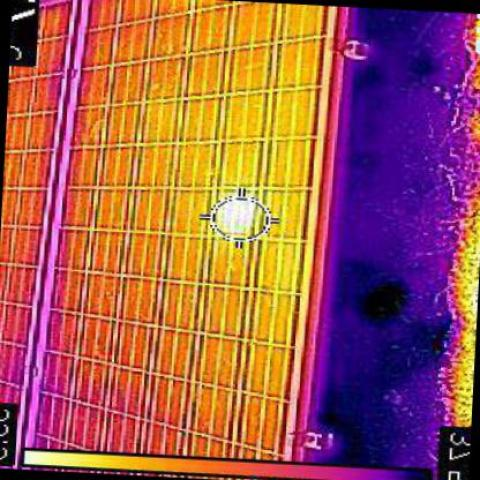fault: (222, 193, 258, 234)
